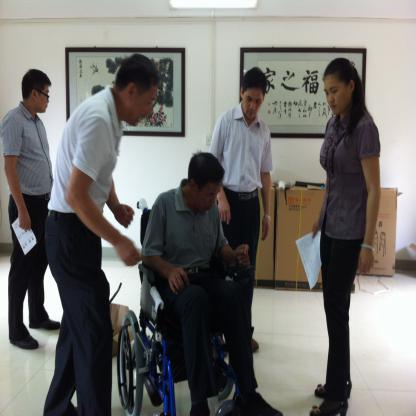wheelchair: (125, 149, 283, 415)
